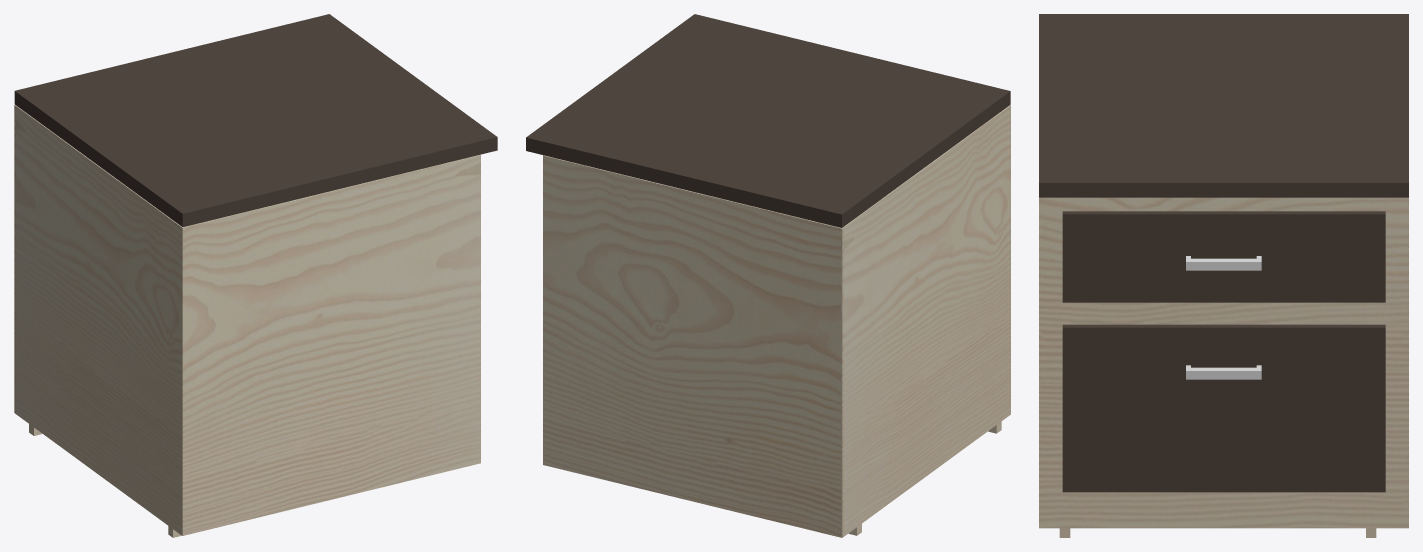
File: nightstand.glb
The picture shows the model from 3 angles, left to right: view 1: azimuth 30°, elevation 25°; view 2: azimuth 150°, elevation 25°; view 3: azimuth 270°, elevation 25°; orthographic projection. The views are drawn at different scales.
Visible parts, largest first — view 1: Cube, Cube.001; view 2: Cube, Cube.001; view 3: Cube.001, Cube.007, Cube, Cube.006, Cube.008, Cube.009.
Boxes of the visible parts, <box> form: Cube: <box>14,104,480,535</box>; Cube.001: <box>14,14,497,226</box>; Cube: <box>543,105,1010,537</box>; Cube.001: <box>526,14,1010,227</box>; Cube.001: <box>1039,14,1408,197</box>; Cube.007: <box>1062,324,1385,492</box>; Cube: <box>1039,197,1408,528</box>; Cube.006: <box>1062,211,1385,302</box>; Cube.008: <box>1186,256,1261,270</box>; Cube.009: <box>1186,365,1261,379</box>.
Size of the model in its own units: 3.41 by 3.42 by 3.15.
Materials: 4 (2 with a texture image).
